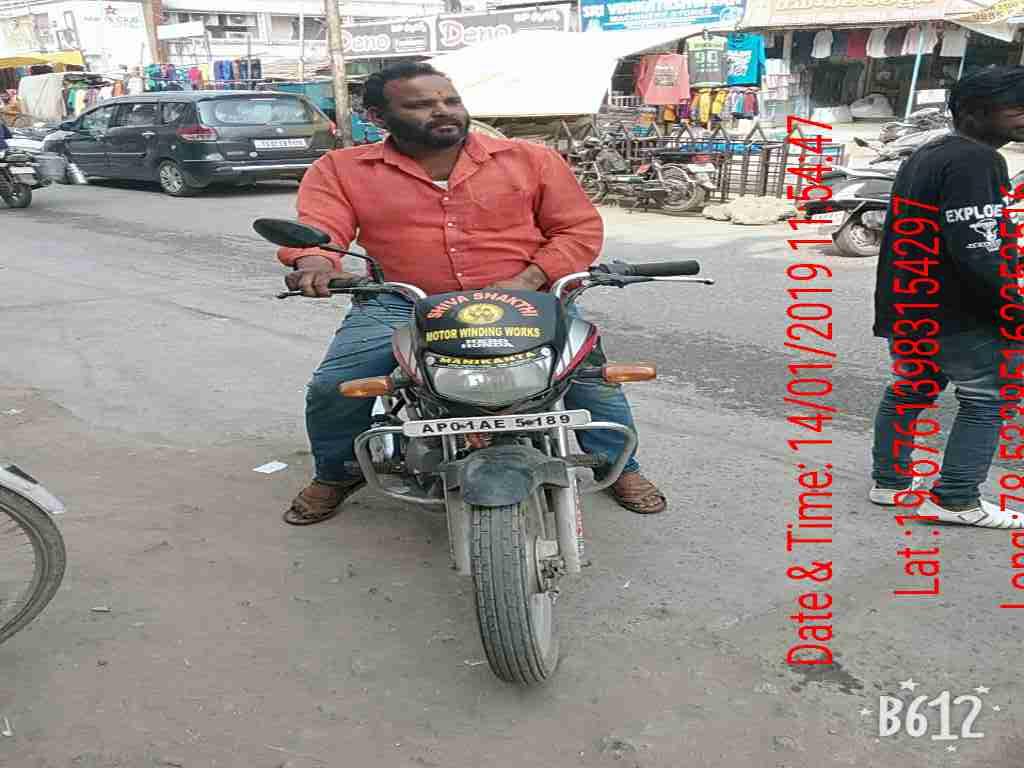plate: (401, 408, 599, 435)
